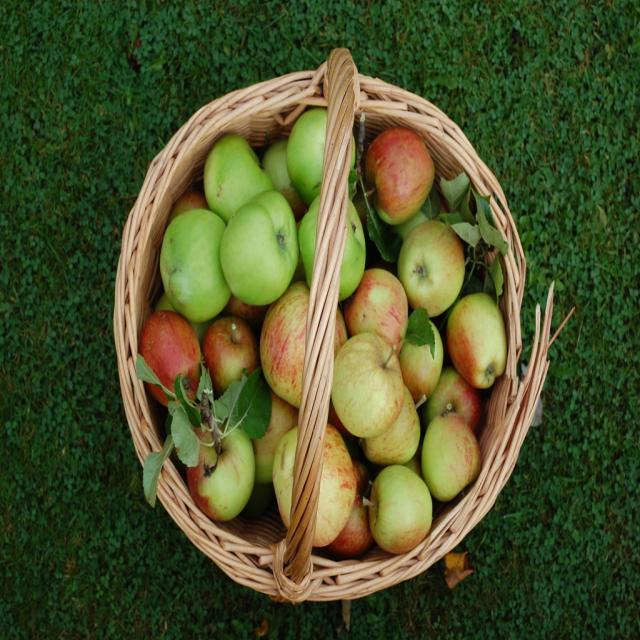Healty Apple: (134, 107, 506, 556), (218, 191, 302, 310)
